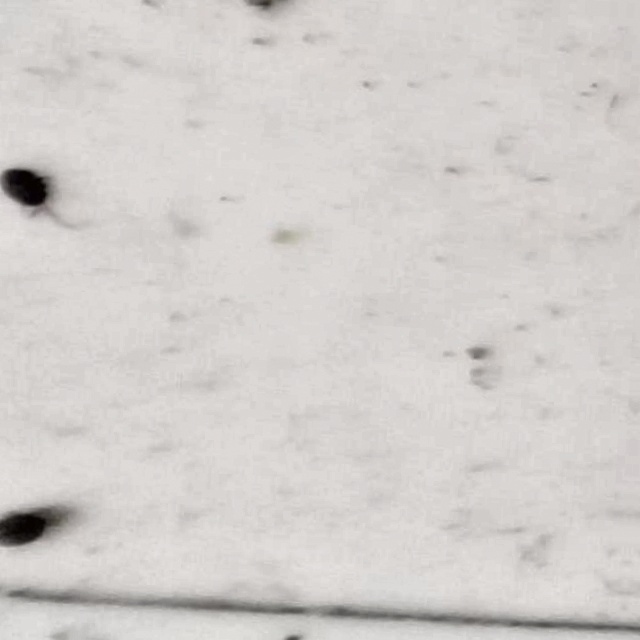varroa: (2, 169, 49, 208)
